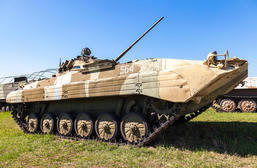bmp: (6, 29, 250, 147)
